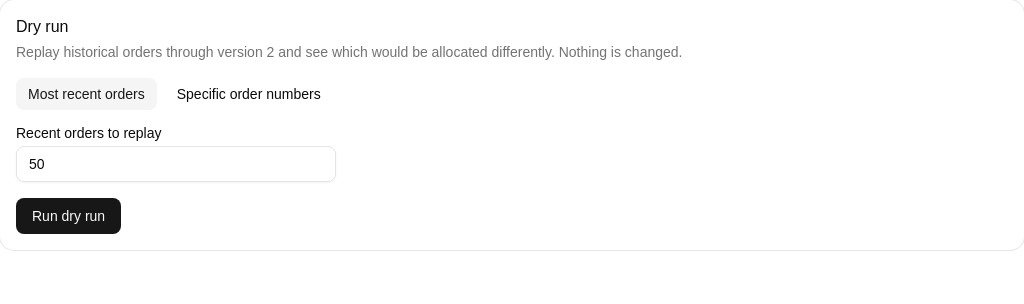
it: DryRunPanel › shows the API explanation when the dry run is refused
Click the button "Run dry run": (69, 216) [16,198,121,234]
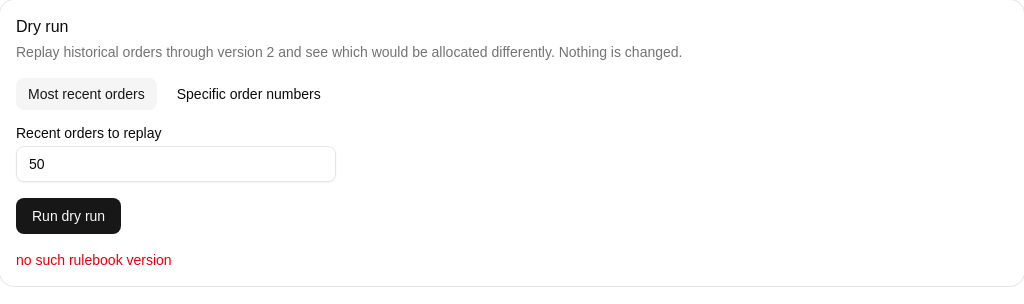
Check: the text "no such rulebook version" is shown, box [16,252,172,268]
